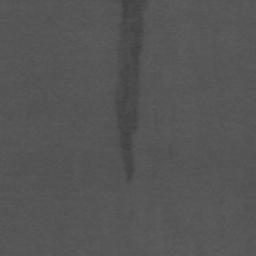Iron scale compression: (114, 0, 145, 186)
